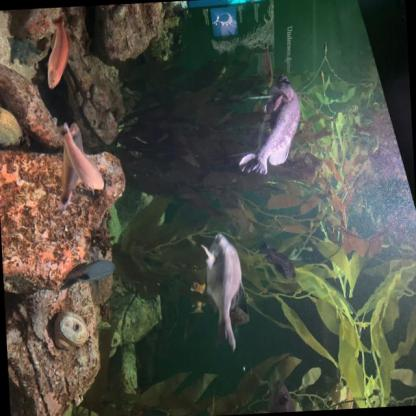fish: (234, 72, 306, 178), (198, 228, 251, 356), (56, 119, 106, 197), (52, 122, 89, 210), (40, 11, 75, 92), (58, 258, 116, 293), (258, 240, 300, 286), (254, 378, 298, 413)
